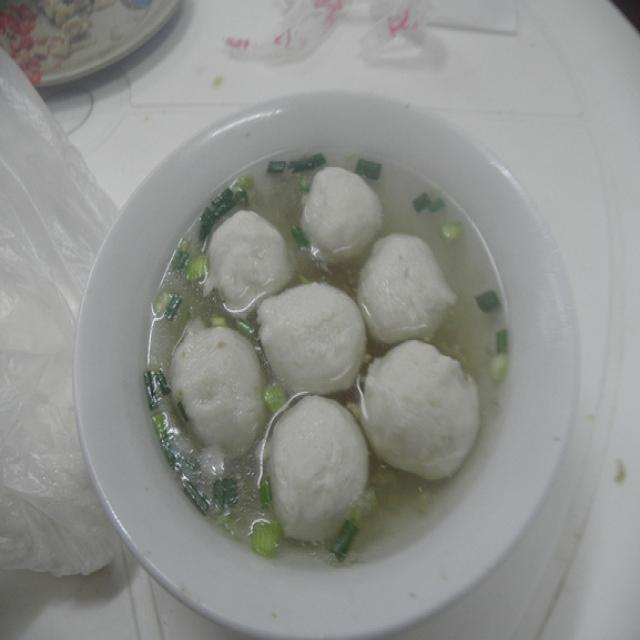熟制海鲜: (41, 60, 583, 615)
